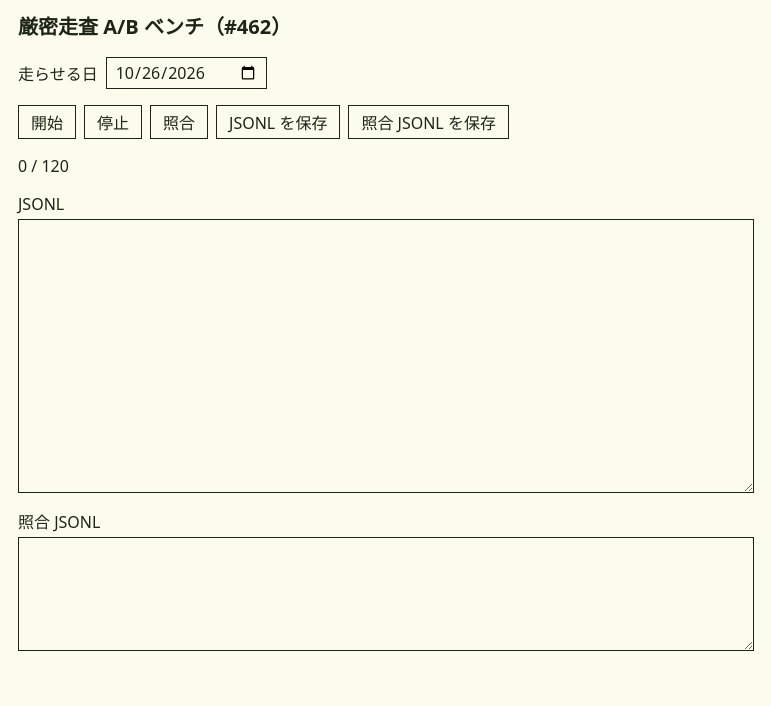
Test: BenchScreen › 走らせ方が投げても、理由を出して操作を戻す
This screenshot has width=771, height=706.
Click the button "開始".
click(47, 122)  # box [18,105,76,139]
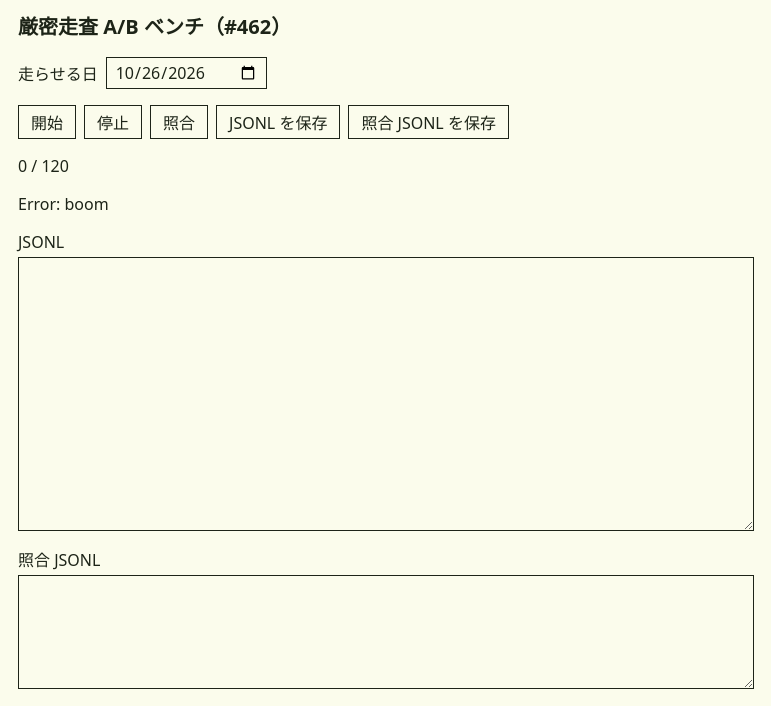
expect the message shows "boom": met, box [18,193,109,215]
